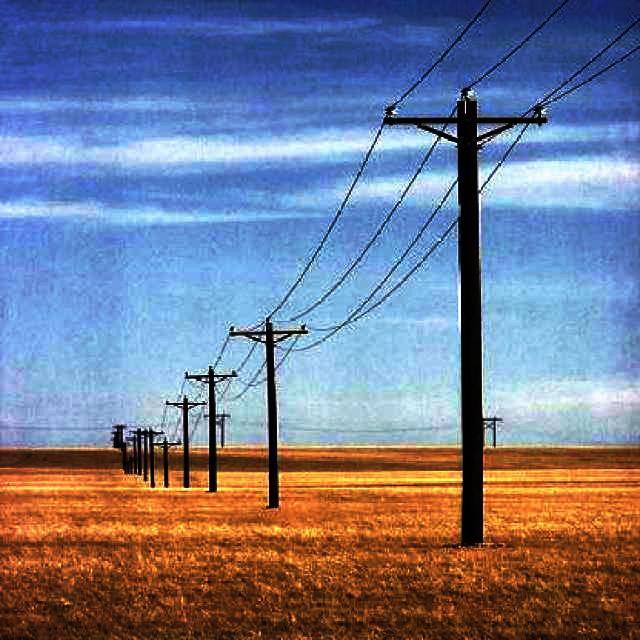poles: (382, 71, 553, 546), (240, 305, 306, 512), (169, 355, 231, 491)
wires: (281, 131, 458, 354), (382, 0, 639, 104)
